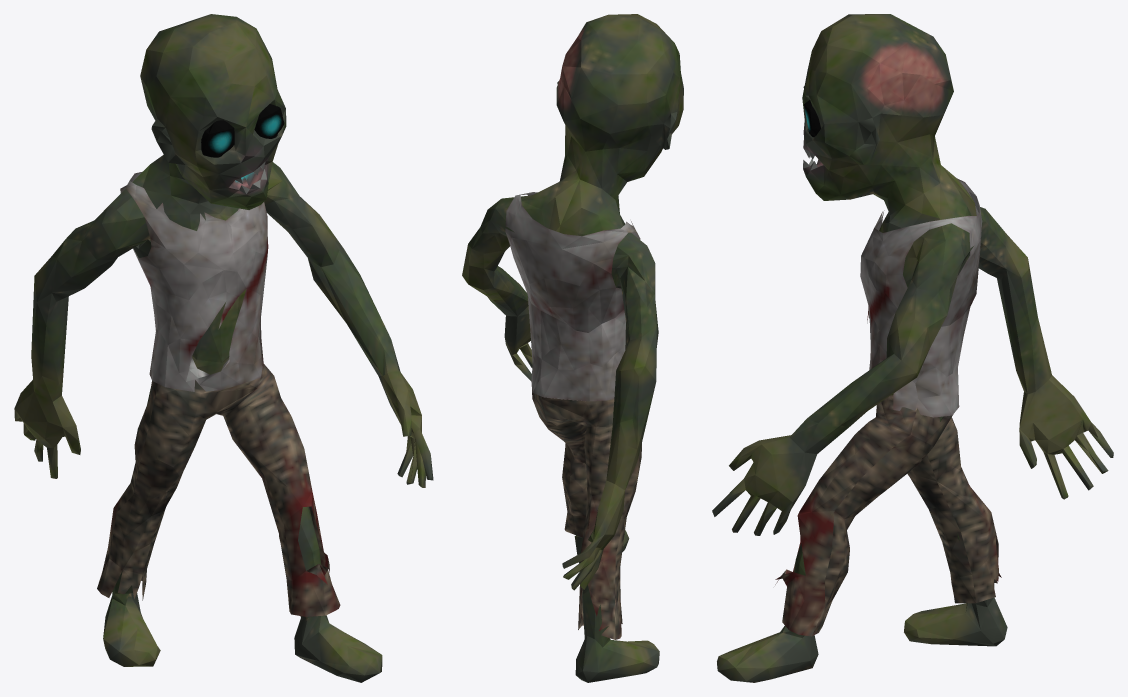
Rendered from zombie_000001.obj.
The picture shows the model from 3 angles, left to right: view 1: azimuth 30°, elevation 25°; view 2: azimuth 150°, elevation 25°; view 3: azimuth 270°, elevation 25°; orthographic projection. The views are drawn at different scales.
Parts seen in each view (by area): view 1: body_Mesh.001, Object001_Mesh.002, clooth_Mesh; view 2: body_Mesh.001, clooth_Mesh, Object001_Mesh.002; view 3: body_Mesh.001, Object001_Mesh.002, clooth_Mesh.
Boxes of the visible parts, x1=… form: body_Mesh.001: x1=14, y1=14, x2=433, y2=682; Object001_Mesh.002: x1=97, y1=362, x2=340, y2=616; clooth_Mesh: x1=120, y1=171, x2=268, y2=391; body_Mesh.001: x1=462, y1=14, x2=683, y2=682; clooth_Mesh: x1=505, y1=192, x2=640, y2=401; Object001_Mesh.002: x1=531, y1=386, x2=641, y2=639; body_Mesh.001: x1=712, y1=14, x2=1113, y2=682; Object001_Mesh.002: x1=775, y1=395, x2=1001, y2=636; clooth_Mesh: x1=860, y1=178, x2=982, y2=417.
Size of the model in its own units: 0.1662 by 0.3845 by 0.219.
2 materials, 2 textured.
